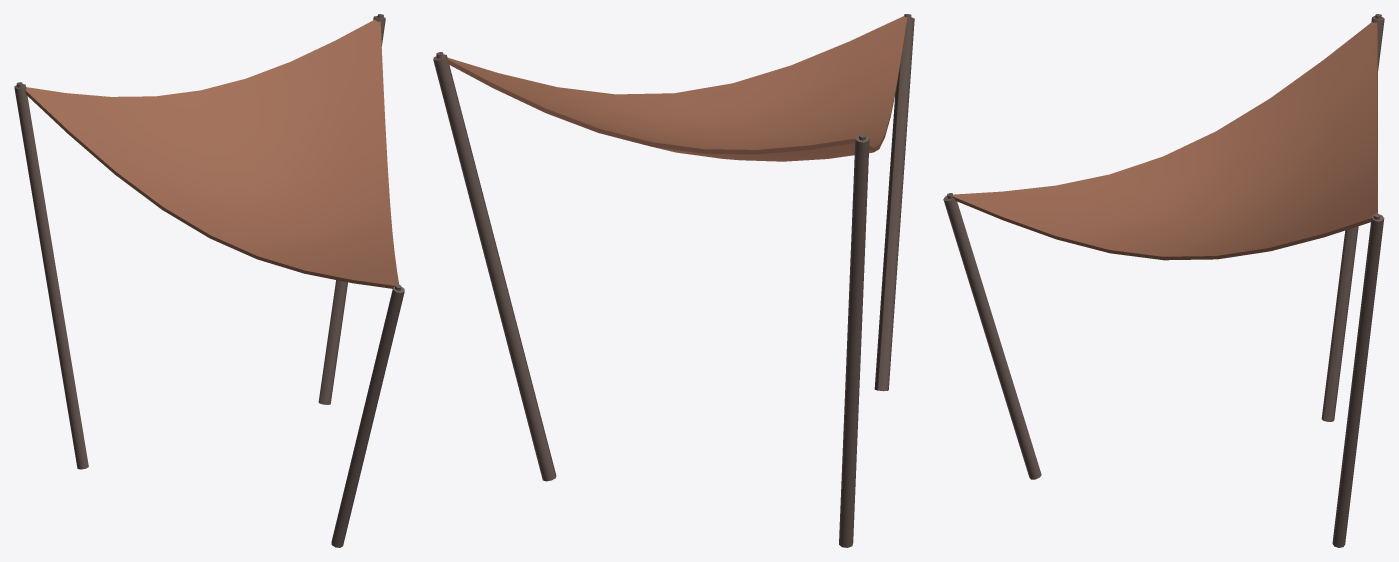
The model's file is Amb5_Sombrilla2.fbx.
3 views of the same model, side by side, from view 1: azimuth 30°, elevation 25°; view 2: azimuth 150°, elevation 25°; view 3: azimuth 270°, elevation 25° (orthographic). The views are drawn at different scales.
Parts seen in each view (by area): view 1: Amb5_Sombrilla2; view 2: Amb5_Sombrilla2; view 3: Amb5_Sombrilla2.
Boxes of the visible parts, box(x1,y1,x2,y2) form: Amb5_Sombrilla2: box(14, 14, 404, 547); Amb5_Sombrilla2: box(433, 14, 914, 547); Amb5_Sombrilla2: box(943, 14, 1384, 547).
Size of the model in its own units: 298 by 290 by 299.
